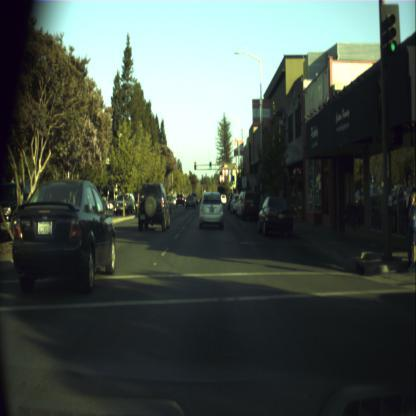Green: (386, 14, 396, 54), (209, 161, 211, 168), (232, 176, 234, 183), (209, 184, 210, 187)
RedLeft: (194, 161, 196, 168)
